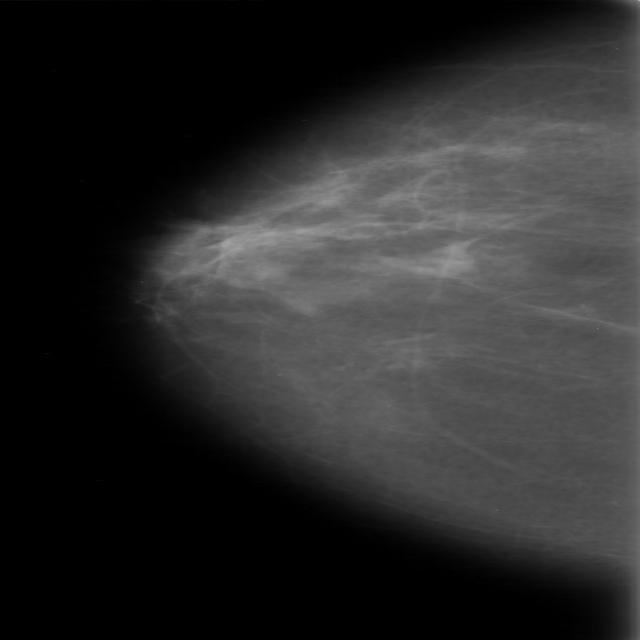tumour: (415, 242, 473, 276)
